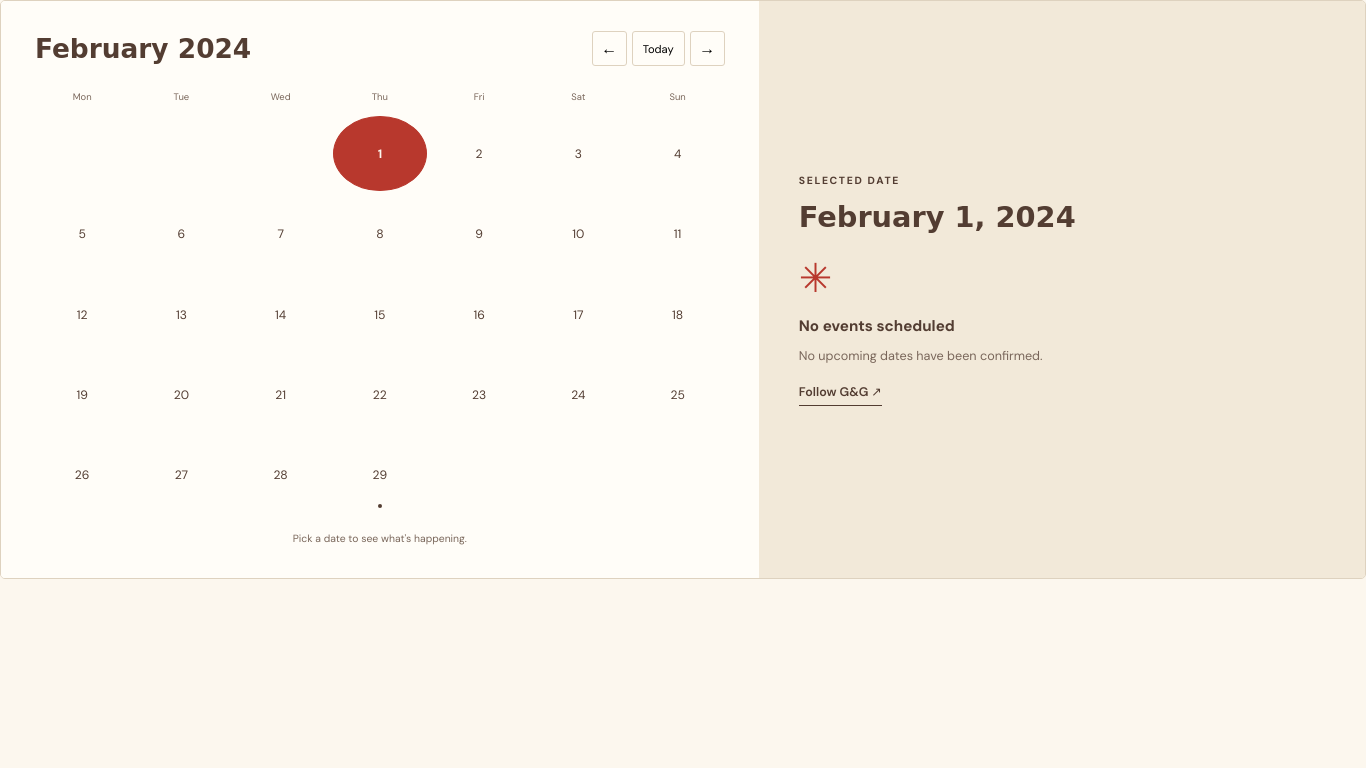
Scenario: Calendar date logic › shows the selected date’s events, with no UTC conversion
Click the button named "February 29, 2024, events scheduled".
click(380, 475)  # box [333,438,427,513]
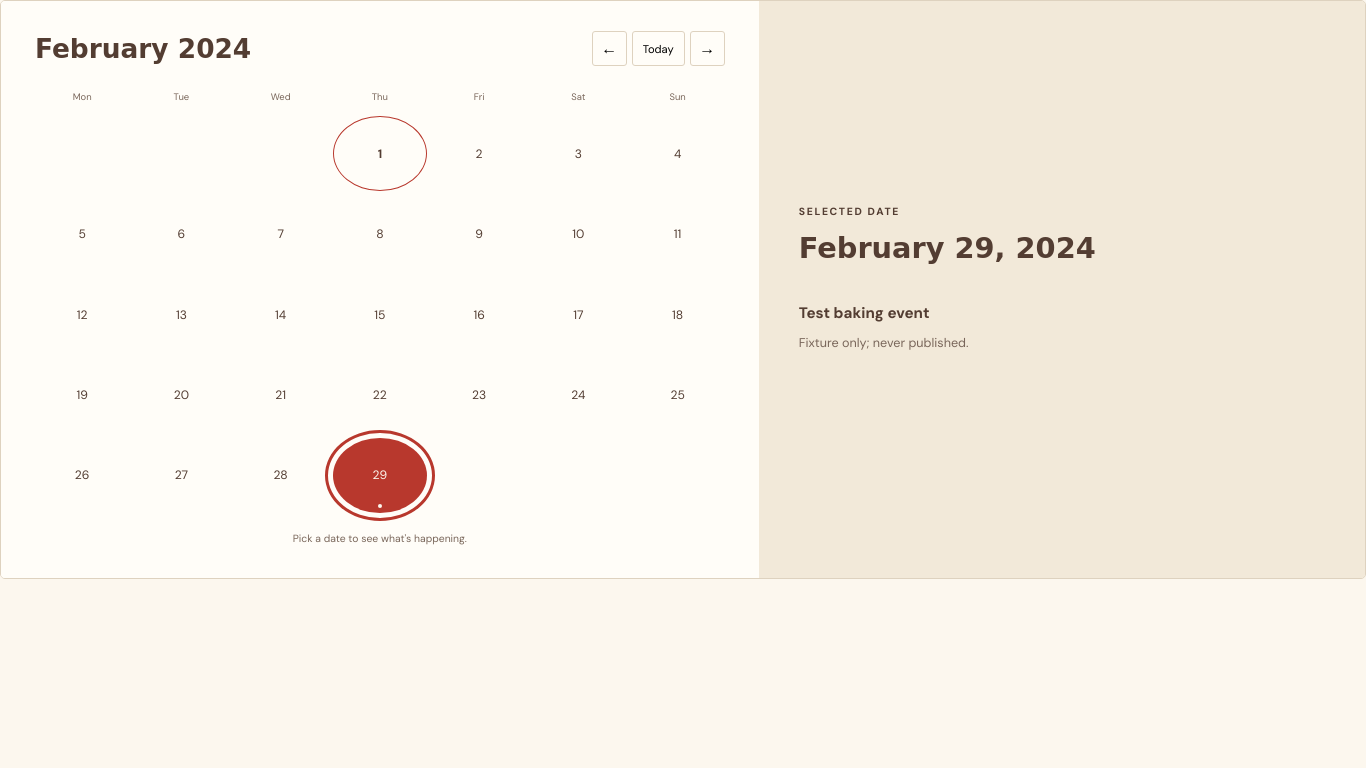
Now the heading "Test baking event" is shown, box [799,303,930,323]
Now the heading "February 29, 2024" is shown, box [799,231,1096,265]
Click the button named "February 28, 2024".
click(281, 475)  # box [234,438,328,513]
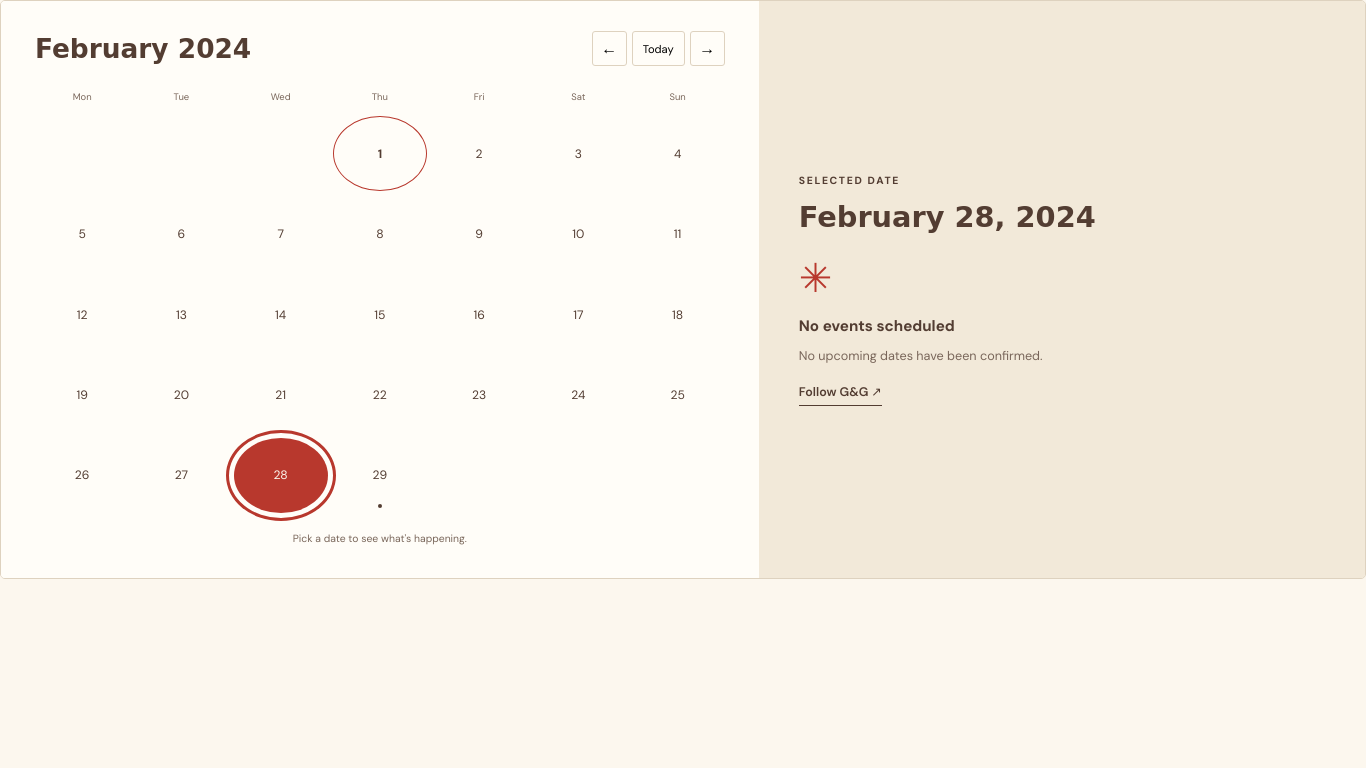
Now the heading "No events scheduled" is shown, box [799,316,955,336]
Now the heading "Test baking event" is gone
